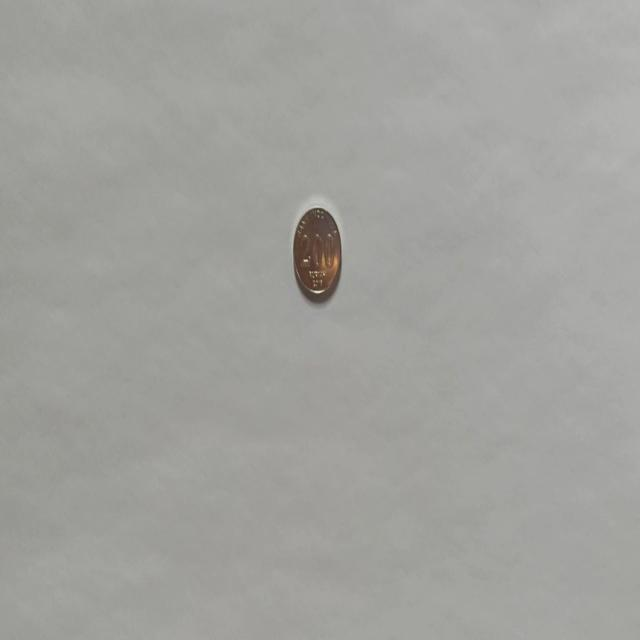dua ratus rupiah: (292, 205, 342, 302)
